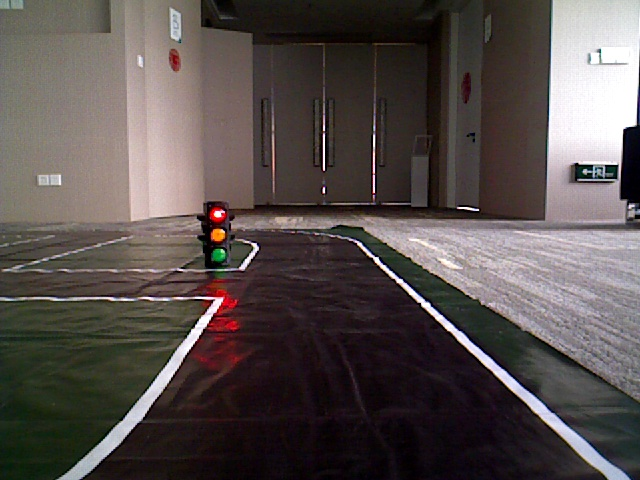red: (206, 201, 226, 262)
